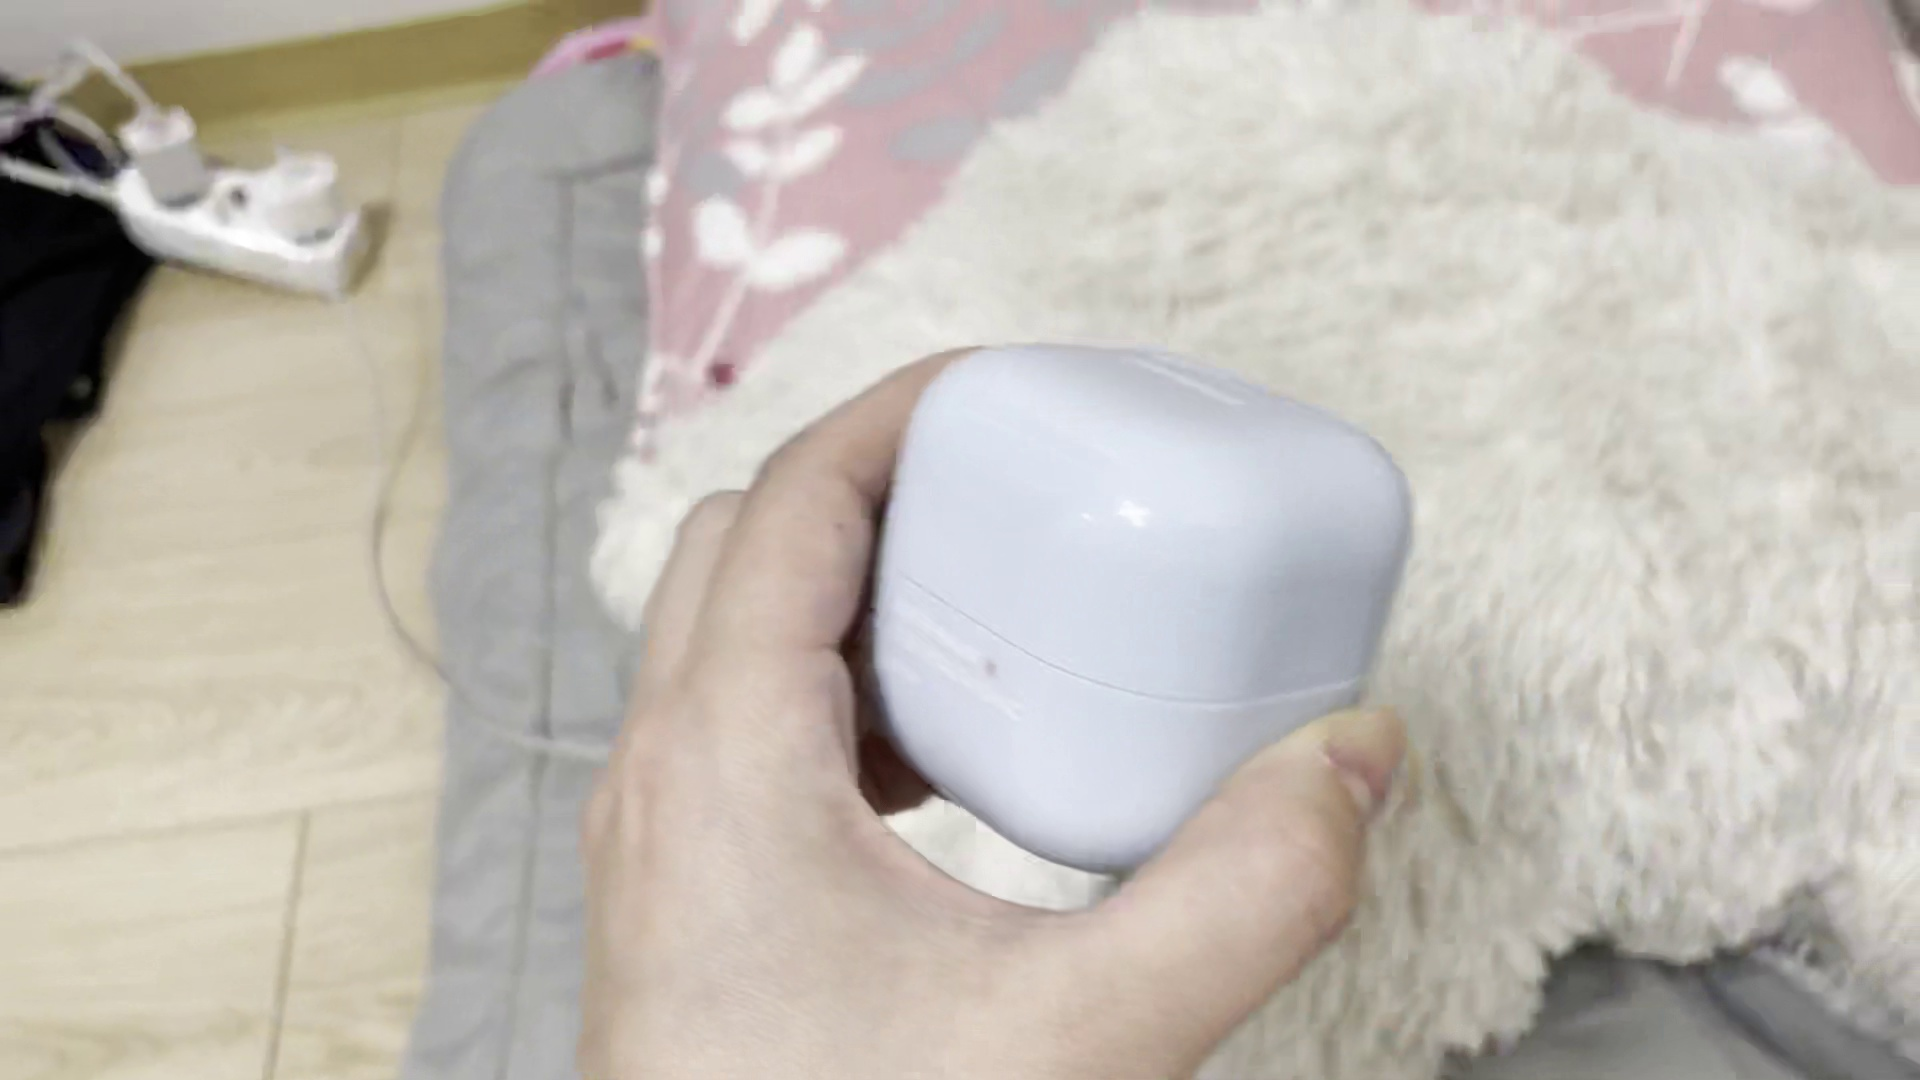cream: (847, 343, 1410, 872)
